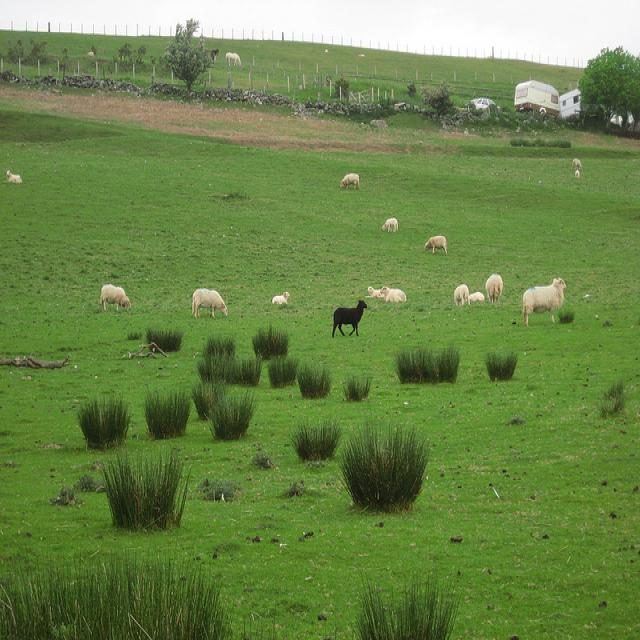Vehicle: (512, 81, 560, 118), (560, 89, 582, 120), (464, 98, 501, 110), (470, 97, 497, 110)
